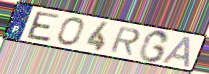4: (84, 21, 110, 53)
A: (161, 35, 192, 69)
E: (25, 10, 61, 44)
G: (137, 30, 171, 64)
O: (55, 16, 85, 47)
R: (108, 26, 143, 57)
